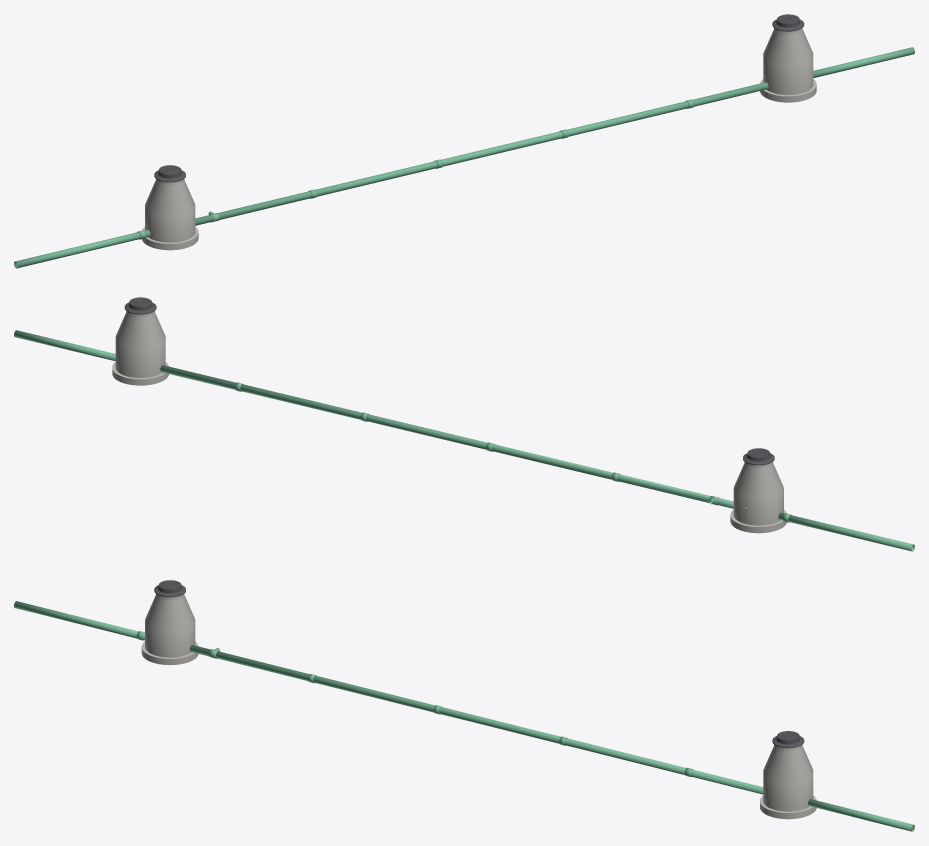
Rendered from slab_pipes_dwv__sewer-city_gravity+city_lift+city_lift_duplex_or_commercial_lot-yes.glb.
3 views of the same model, one above another, from view 1: azimuth 30°, elevation 25°; view 2: azimuth 150°, elevation 25°; view 3: azimuth 330°, elevation 25° (orthographic).
Parts seen in each view (by area): view 1: pipe_dwv_city_main, manhole_city_east, manhole_city_west; view 2: pipe_dwv_city_main, manhole_city_east, manhole_city_west; view 3: pipe_dwv_city_main, manhole_city_east, manhole_city_west.
Part boxes in pixels (x1,y1,x2,y2): pipe_dwv_city_main: (14, 47, 914, 268); manhole_city_east: (760, 28, 816, 102); manhole_city_west: (142, 179, 198, 250); pipe_dwv_city_main: (14, 330, 914, 551); manhole_city_east: (112, 311, 168, 385); manhole_city_west: (730, 462, 786, 533); pipe_dwv_city_main: (14, 601, 914, 831); manhole_city_east: (760, 744, 816, 819); manhole_city_west: (141, 594, 198, 665).
Bounding box in the file's own units: 30.48 × 2.32 × 1.67.
